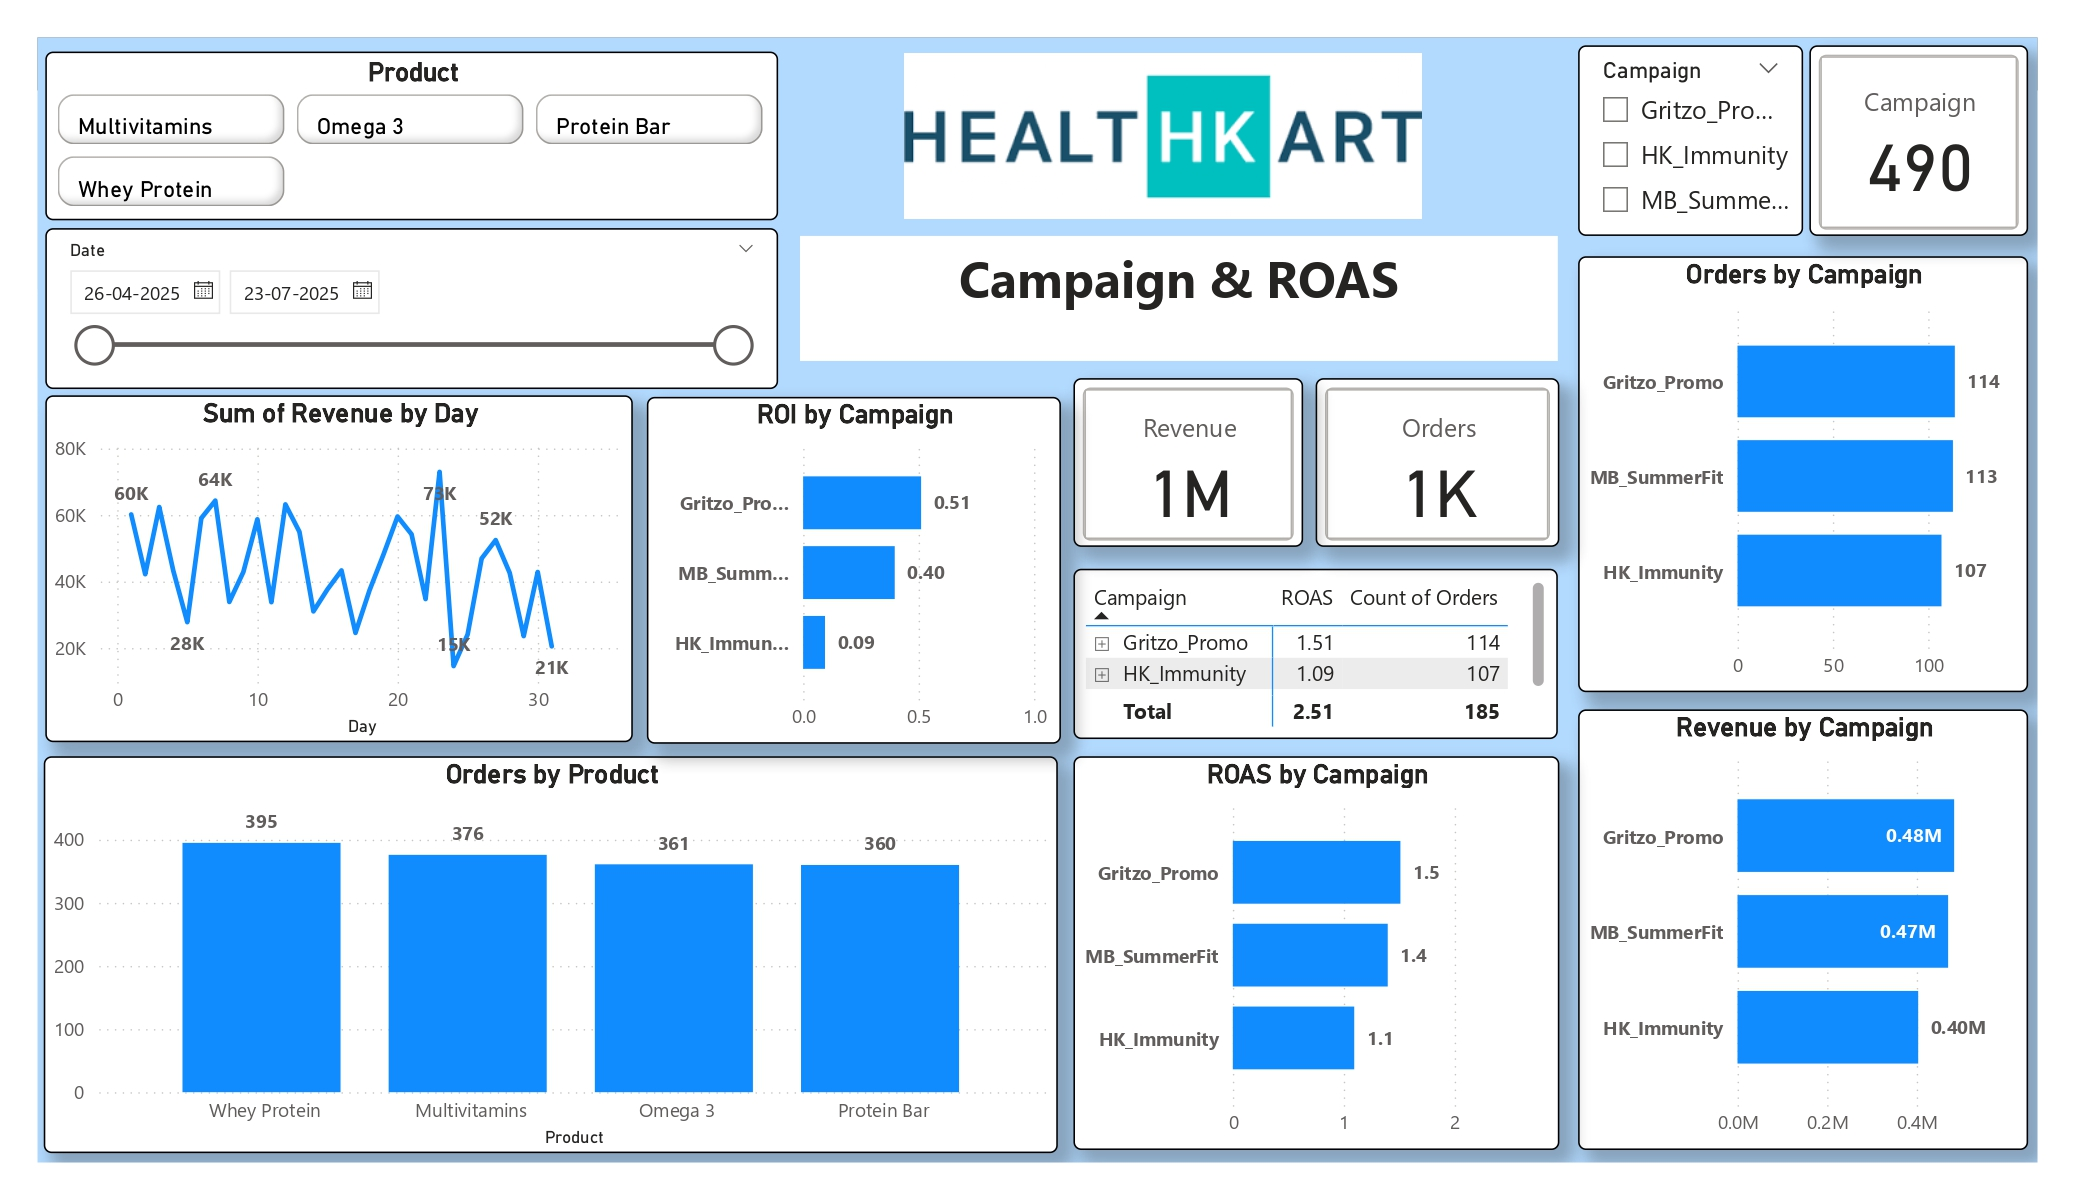

This screenshot's page, from the dashboard's own definition file:
{"tool":"powerbi","page":{"name":"Campaign & ROAS","canvas":[1280,720],"ordinal":2},"visuals":[{"type":"slicer","fields":{"Values":["tracking_data.Campaign"]},"box":[986.3,5.5,143.8,121.9],"z":0},{"type":"slicer","fields":{"Values":["tracking_data.Date"]},"box":[5.5,121.9,468.5,102.7],"z":1000},{"type":"lineChart","fields":{"Y":["Sum(tracking_data.Revenue)"],"Category":["tracking_data.Date.Variation.Date Hierarchy.Year","tracking_data.Date.Variation.Date Hierarchy.Quarter","tracking_data.Date.Variation.Date Hierarchy.Month","tracking_data.Date.Variation.Date Hierarchy.Day"]},"box":[5.5,228.8,375.3,221.9],"z":2000},{"type":"lineClusteredColumnComboChart","title":"Orders by Product","fields":{"Y":["Sum(tracking_data.Orders)"],"Category":["tracking_data.Product"]},"box":[4.1,460.3,649.3,253.4],"z":3000},{"type":"pivotTable","fields":{"Rows":["tracking_data.Campaign","tracking_data.Revenue"],"Values":["payouts.ROAS","CountNonNull(payouts.Orders)"]},"box":[663,339.7,309.6,109.6],"z":4000},{"type":"advancedSlicerVisual","fields":{"Values":["tracking_data.Product"]},"box":[4.9,8.6,469.6,108.8],"z":5000},{"type":"clusteredBarChart","title":"Orders by Campaign","fields":{"Category":["tracking_data.Campaign"],"Y":["CountNonNull(payouts.Orders)"]},"box":[986.3,139.7,287.7,279.5],"z":6000},{"type":"clusteredBarChart","title":"Revenue by Campaign","fields":{"Category":["tracking_data.Campaign"],"Y":["payouts.Total Revenue"]},"box":[986.3,430.1,287.7,282.2],"z":7000},{"type":"clusteredBarChart","fields":{"Category":["tracking_data.Campaign"],"Y":["payouts.ROAS"]},"box":[663,460.3,311,252.1],"z":8000},{"type":"image","box":[487.7,5.5,465.8,115.1],"z":9000},{"type":"textbox","box":[487.9,127.2,485.5,79.5],"z":10000},{"type":"cardVisual","fields":{"Data":["CountNonNull(tracking_data.Campaign)"]},"box":[1134.2,5.5,139.7,121.9],"z":11000},{"type":"cardVisual","fields":{"Data":["Sum(tracking_data.Orders)"]},"box":[817.8,217.8,156.2,108.2],"z":12000},{"type":"cardVisual","fields":{"Data":["Sum(tracking_data.Revenue)"]},"box":[663,217.8,146.6,108.2],"z":13000},{"type":"clusteredBarChart","fields":{"Category":["tracking_data.Campaign"],"Y":["payouts.ROI"]},"box":[390.4,230.1,264.4,221.9],"z":14000}]}

Visuals, with their boxes in screenshot pixels (x1, y1, x2, y2):
slicer - tracking_data.Campaign: (1579, 46, 1803, 237)
slicer - tracking_data.Date: (46, 228, 778, 388)
lineChart - Sum(tracking_data.Revenue) x tracking_data.Date.Variation.Date Hierarchy.Year: (46, 395, 632, 742)
"Orders by Product" lineClusteredColumnComboChart: (44, 757, 1058, 1153)
pivotTable - tracking_data.Campaign x tracking_data.Revenue: (1073, 568, 1557, 740)
advancedSlicerVisual - tracking_data.Product: (45, 51, 779, 221)
"Orders by Campaign" clusteredBarChart: (1579, 256, 2028, 692)
"Revenue by Campaign" clusteredBarChart: (1579, 710, 2028, 1150)
clusteredBarChart - tracking_data.Campaign x payouts.ROAS: (1073, 757, 1559, 1151)
image: (800, 46, 1527, 226)
textbox: (800, 236, 1558, 360)
cardVisual - CountNonNull(tracking_data.Campaign): (1810, 46, 2028, 237)
cardVisual - Sum(tracking_data.Orders): (1315, 378, 1559, 547)
cardVisual - Sum(tracking_data.Revenue): (1073, 378, 1302, 547)
clusteredBarChart - tracking_data.Campaign x payouts.ROI: (648, 397, 1061, 744)
